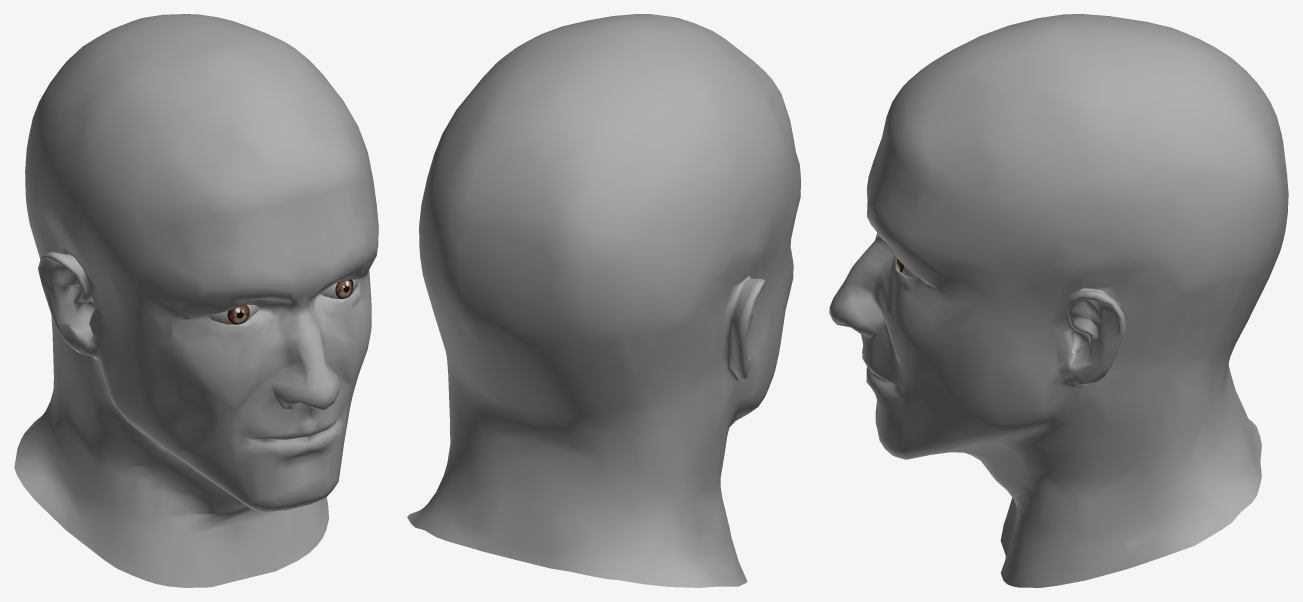
Rendered from NS Page 24.fbx.
3 renders of one model, left to right at view 1: azimuth 30°, elevation 25°; view 2: azimuth 150°, elevation 25°; view 3: azimuth 270°, elevation 25°, orthographic. The views are drawn at different scales.
Visible parts, largest first — view 1: Head_neck_skin; view 2: Head_neck_skin; view 3: Head_neck_skin.
Boxes of the visible parts, x1,y1,x2,y2 form: Head_neck_skin: [14, 14, 378, 587]; Head_neck_skin: [407, 14, 800, 587]; Head_neck_skin: [829, 14, 1288, 587].
Bounding box in the file's own units: 16.87 × 28.05 × 22.1.
Materials: 8 (1 with a texture image).
